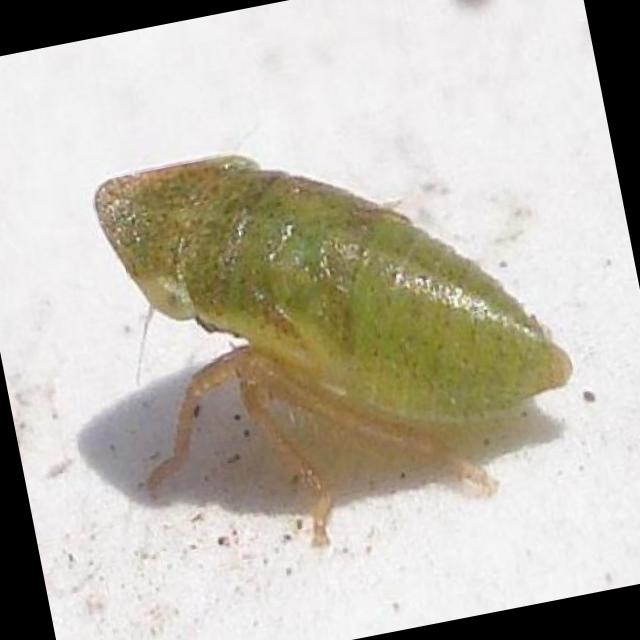green-leafhopper: (86, 85, 592, 560)
